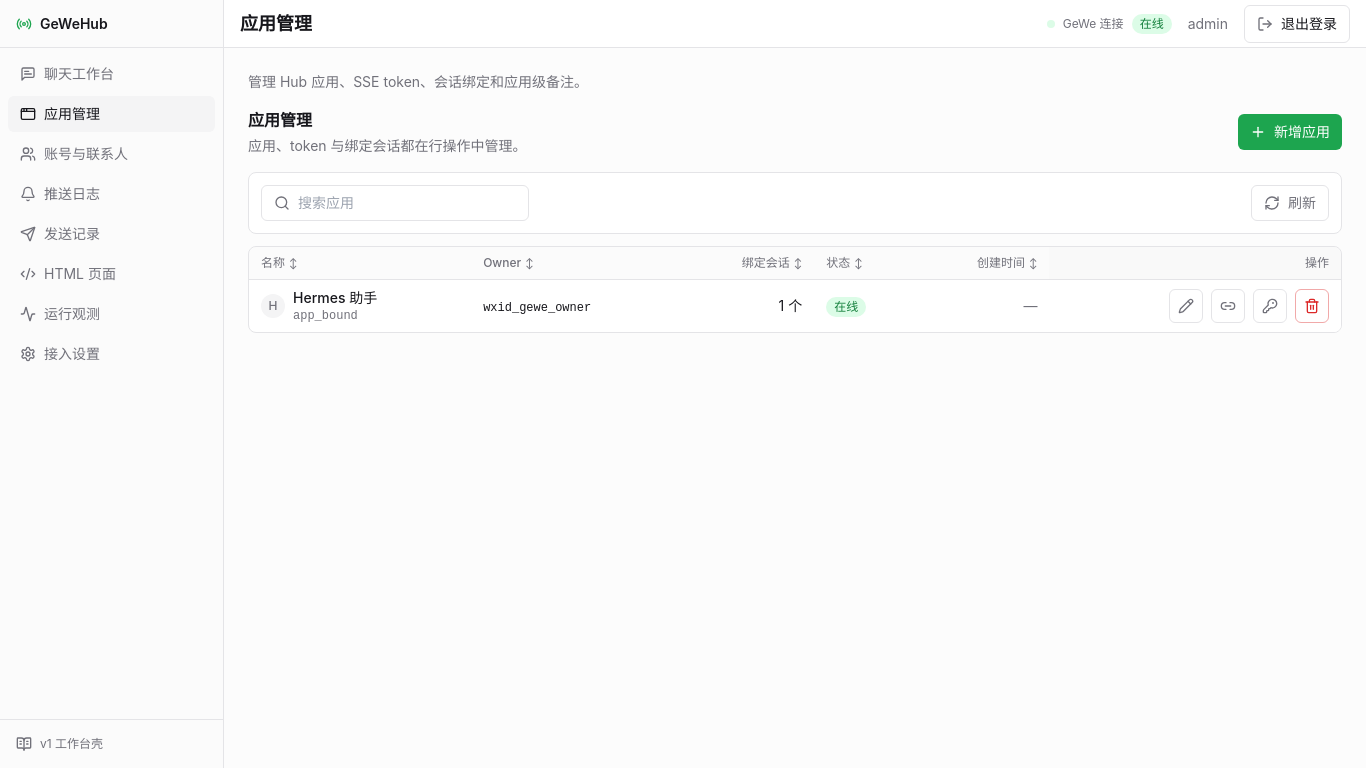
it: App › 应用绑定会话列表可以直达工作台对应会话
The width and height of the screenshot is (1366, 768).
Click the button named "查看绑定会话" at (1228, 306), box x1=1211 y1=289 x2=1245 y2=323
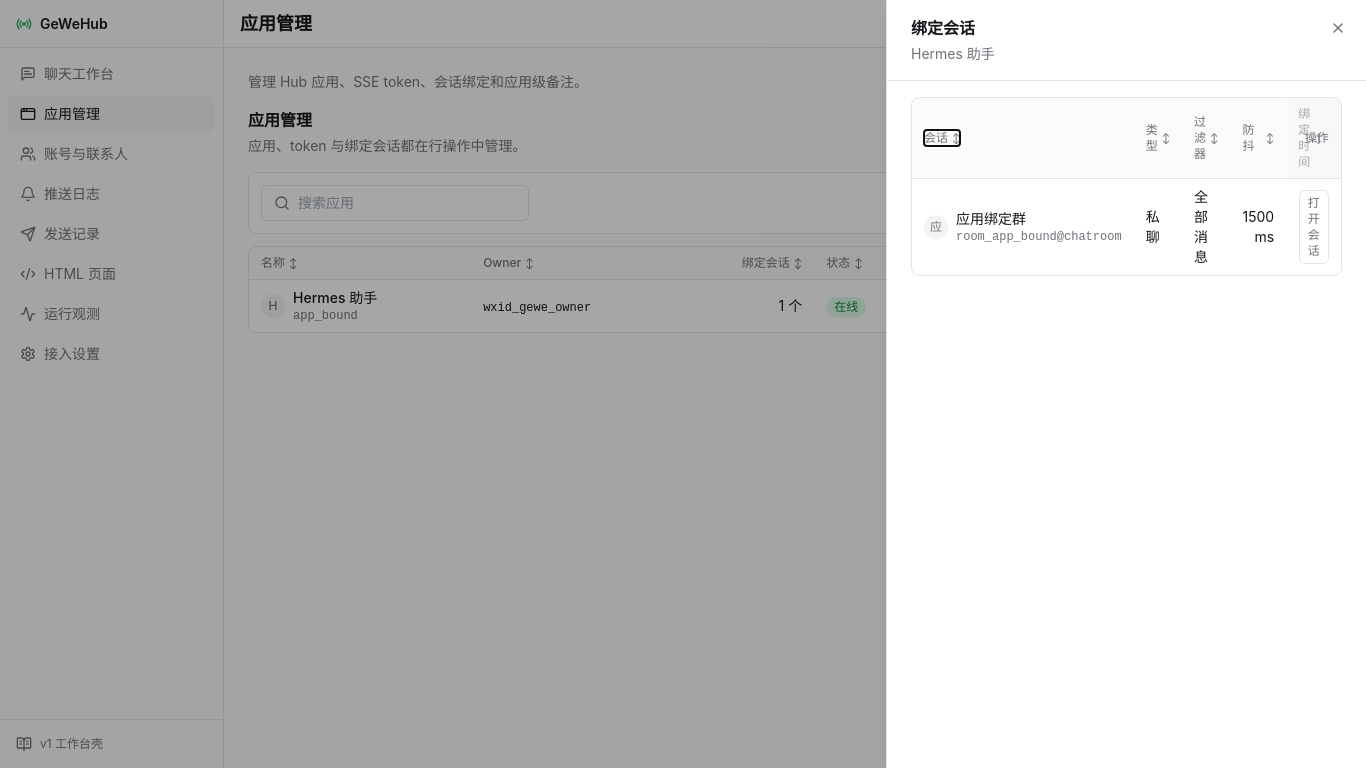
Click the button with aria-label "打开工作台会话 应用绑定群" at (1314, 227), box x1=1299 y1=190 x2=1329 y2=264
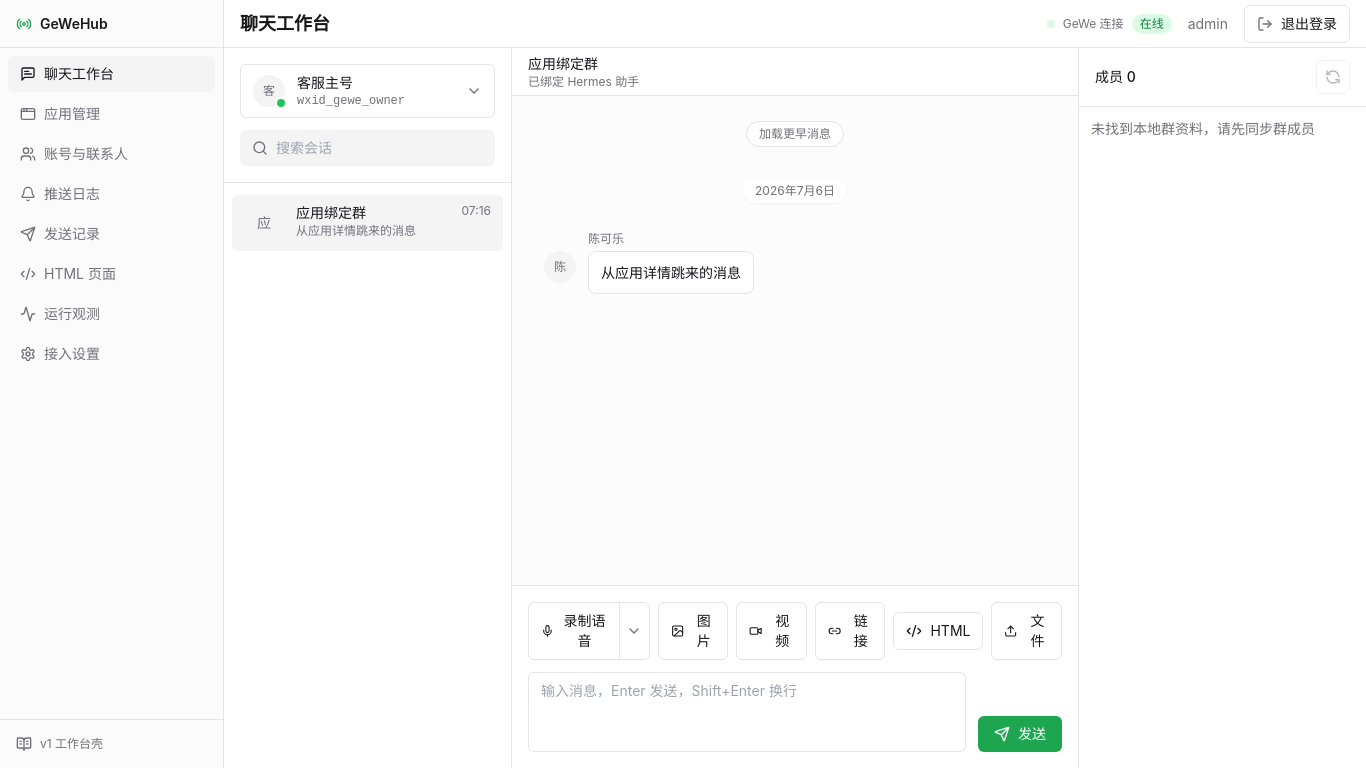
Expected: the heading "应用绑定群" is shown, x1=528 y1=54 x2=598 y2=72
Expected: the text "从应用详情跳来的消息" below "陈可乐" is shown, x1=601 y1=264 x2=741 y2=281
